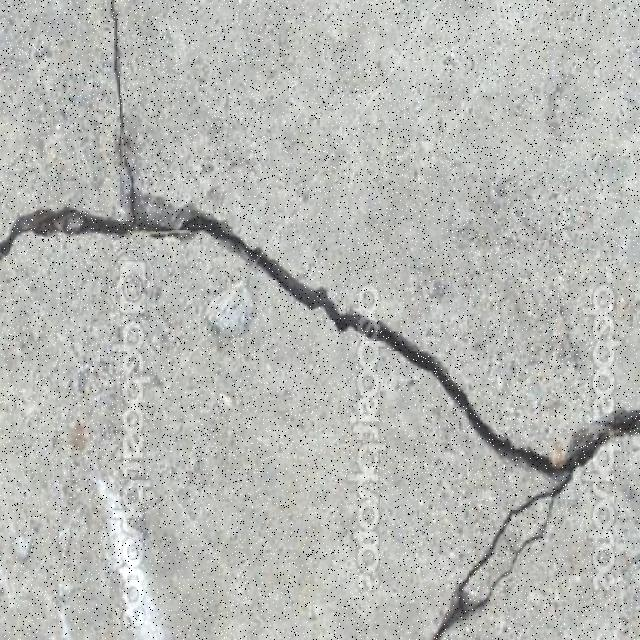Crack: (180, 209, 640, 640), (0, 162, 174, 259), (111, 0, 124, 134)
